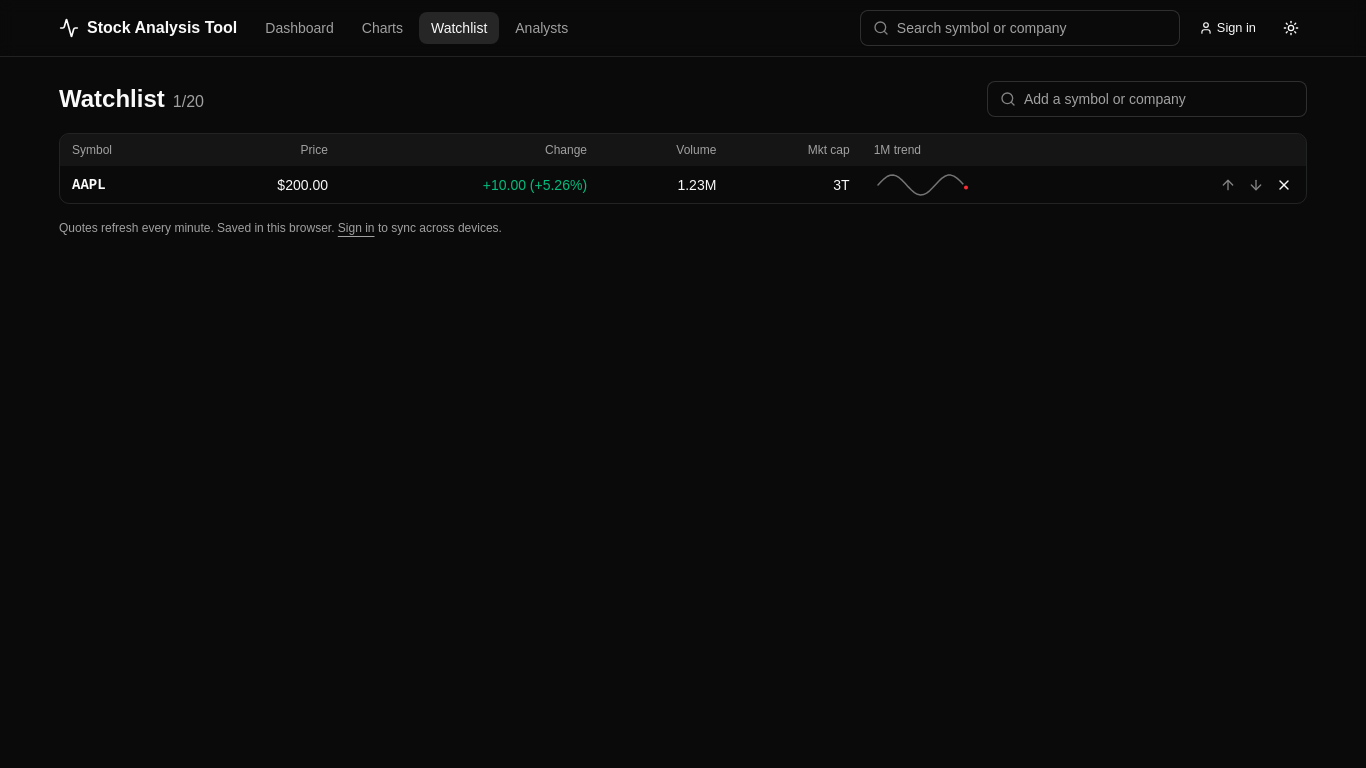
Test: WatchlistPage › clicking a symbol selects it and opens the chart
This screenshot has width=1366, height=768.
Click the button "AAPL": [89, 185] box x1=72 y1=175 x2=106 y2=195
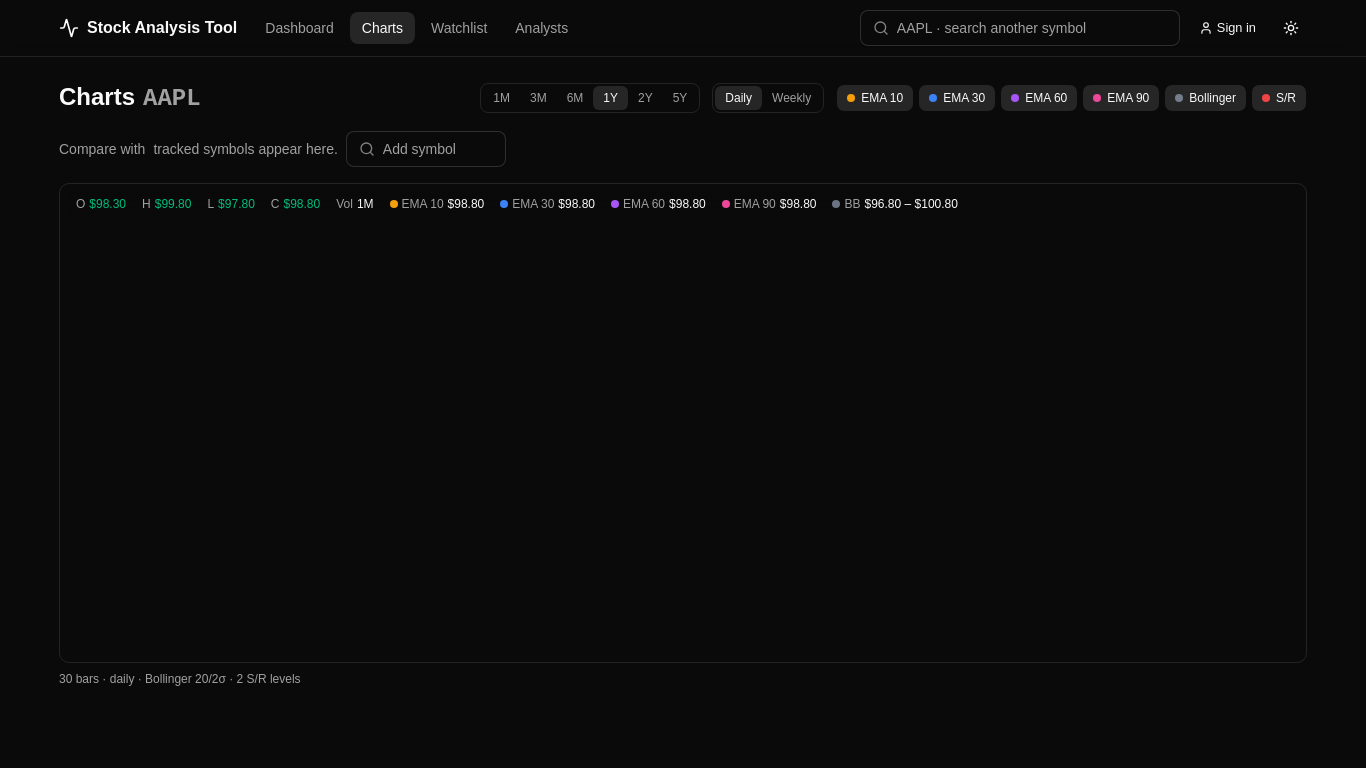
Expected: the heading is shown, x1=59 y1=81 x2=201 y2=115
